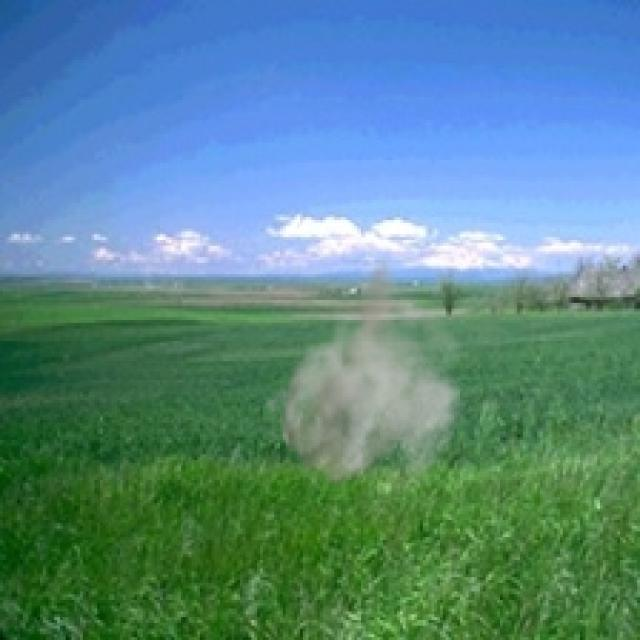Smoke: (263, 252, 472, 508)
